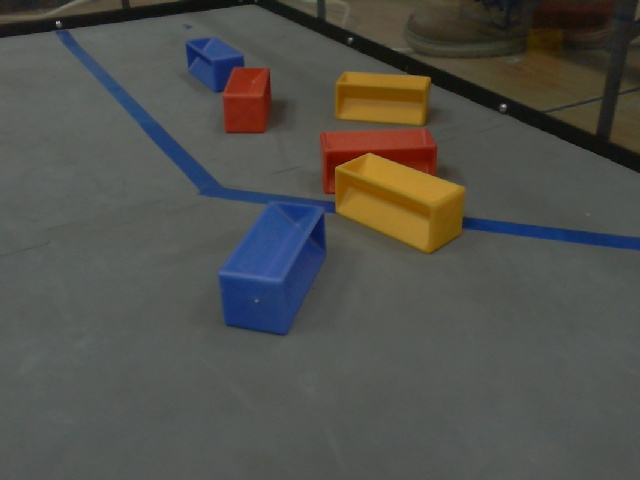BlueSample: (215, 197, 328, 338), (186, 34, 246, 95)
RedSample: (313, 124, 438, 195), (221, 64, 274, 135)
YellowSample: (330, 150, 472, 258), (327, 69, 437, 128)
